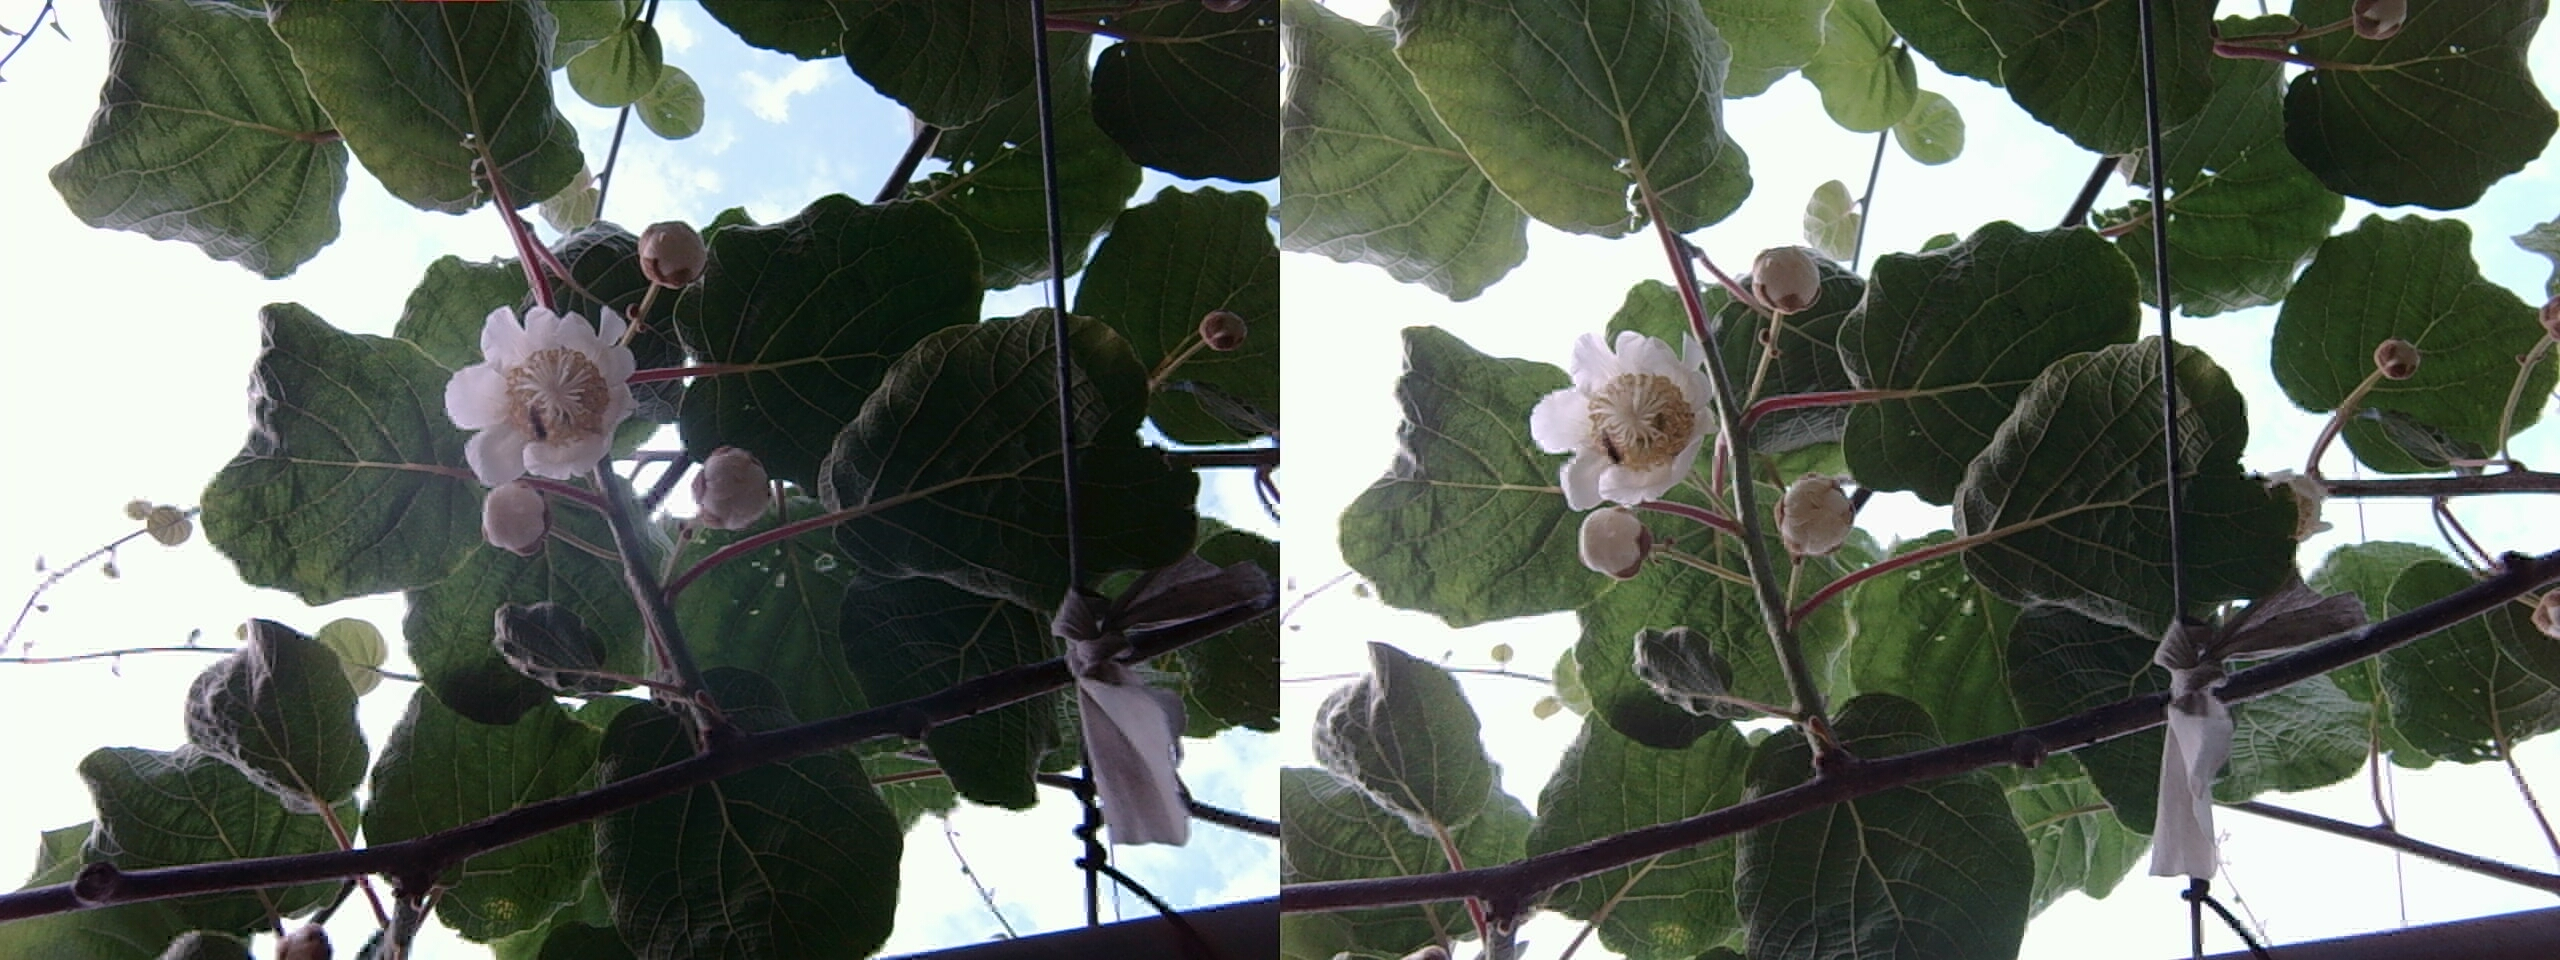flower: (434, 292, 651, 482), (1527, 318, 1713, 500)
